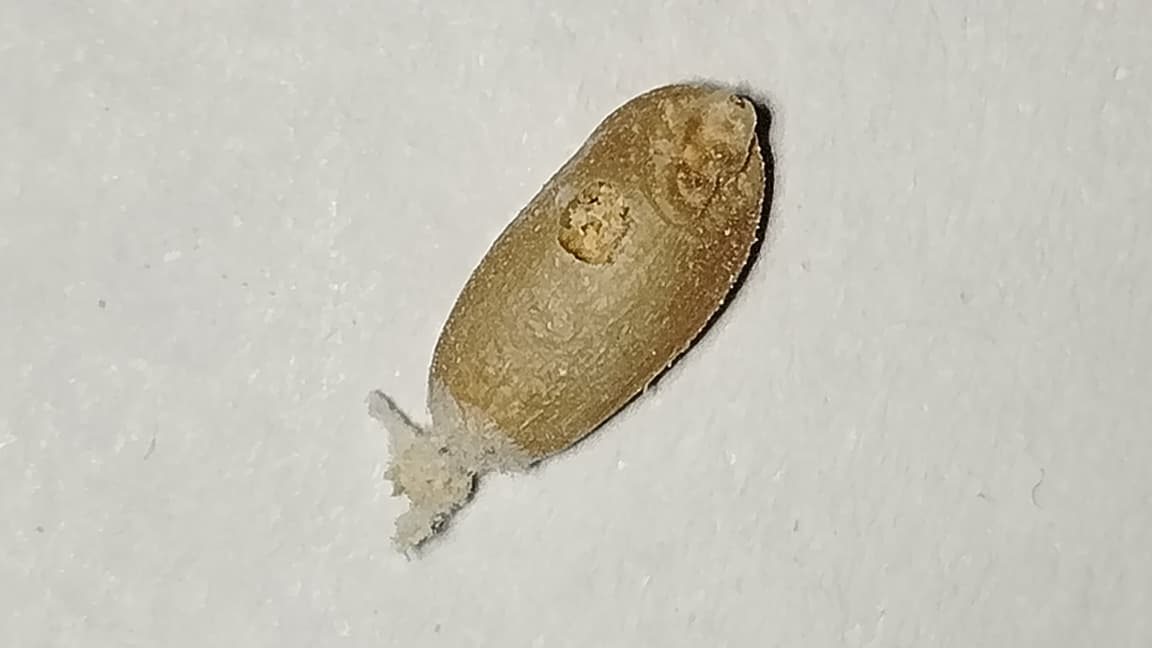damage: (369, 83, 765, 553)
insectdamage: (644, 93, 755, 235), (540, 171, 639, 275)
molddamage: (367, 380, 534, 548)
